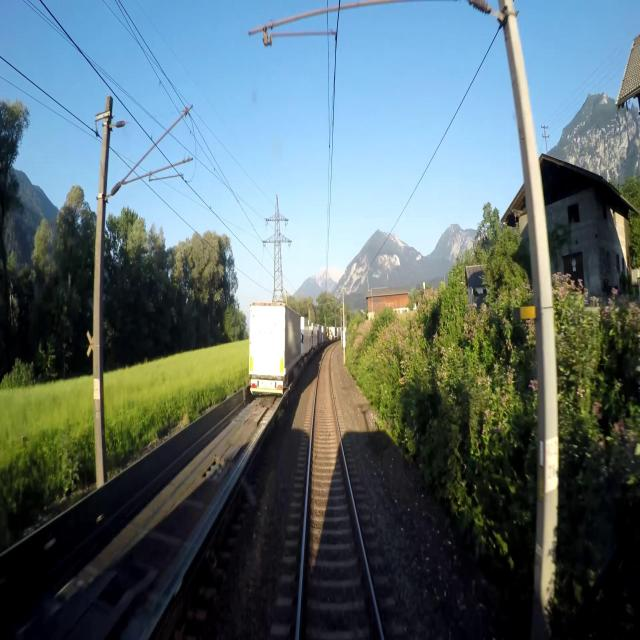rail-track: (0, 393, 278, 639), (300, 350, 379, 639)
